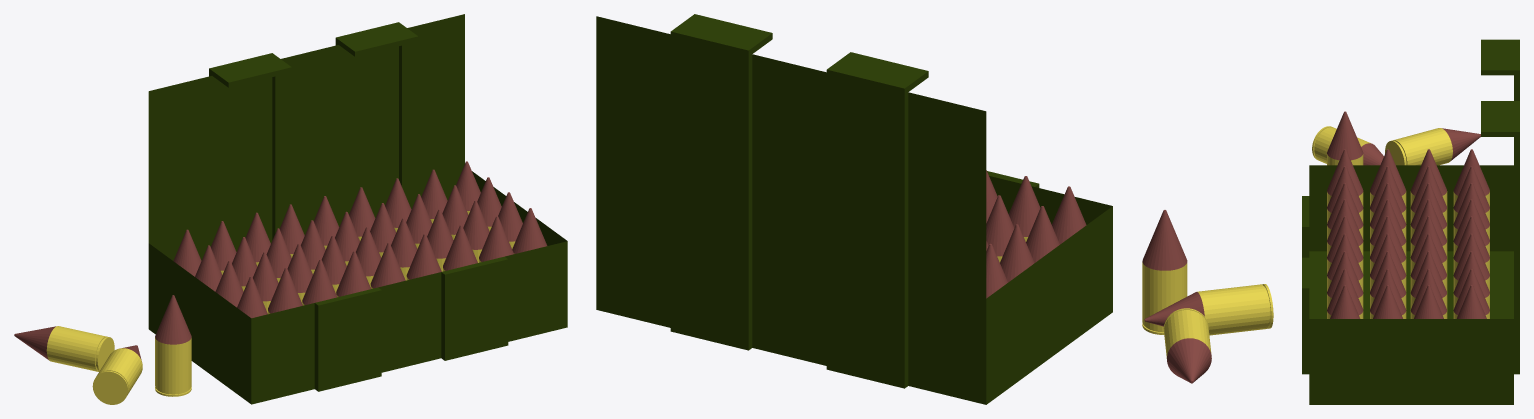
File: bala.fbx
3 renders of one model, left to right at view 1: azimuth 30°, elevation 25°; view 2: azimuth 150°, elevation 25°; view 3: azimuth 270°, elevation 25°, orthographic. The views are drawn at different scales.
Visible parts, largest first — view 1: Cube, Cylinder.036, Cylinder.038, Cylinder.037, Cylinder.020, Cylinder.021, Cylinder.019, Cylinder.030, Cylinder.031, Cylinder.033, Cylinder.034, Cylinder.032 (+28 smaller); view 2: Cube, Cylinder.037, Cylinder.036, Cylinder.038, Cylinder.034, Cylinder.025, Cylinder.017, Cylinder.035, Cylinder.026, Cylinder.008; view 3: Cube, Cylinder.038, Cylinder.036, Cylinder.037, Cylinder.012, Cylinder.013, Cylinder.011, Cylinder.002, Cylinder.003, Cylinder.021, Cylinder.020, Cylinder.022 (+28 smaller).
Boxes of the visible parts, x1,y1,x2,y2 form: Cube: (148, 14, 567, 404); Cylinder.036: (155, 295, 191, 396); Cylinder.038: (14, 326, 114, 371); Cylinder.037: (92, 345, 142, 404); Cylinder.020: (427, 209, 453, 271); Cylinder.021: (391, 218, 417, 280); Cylinder.019: (463, 200, 489, 262); Cylinder.030: (406, 233, 441, 280); Cylinder.031: (370, 242, 405, 288); Cylinder.033: (302, 259, 336, 305); Cylinder.034: (268, 267, 302, 314); Cylinder.032: (336, 251, 370, 297); Cube: (596, 14, 1112, 404); Cylinder.037: (1144, 284, 1273, 335); Cylinder.036: (1142, 210, 1187, 334); Cylinder.038: (1163, 308, 1211, 383); Cylinder.034: (1008, 176, 1040, 241); Cylinder.025: (986, 195, 1014, 262); Cylinder.017: (1000, 224, 1034, 282); Cylinder.035: (1052, 186, 1086, 244); Cylinder.026: (1026, 206, 1059, 262); Cylinder.008: (986, 243, 1007, 298); Cube: (1302, 39, 1519, 404); Cylinder.038: (1385, 128, 1480, 165); Cylinder.036: (1327, 111, 1363, 165); Cylinder.037: (1312, 126, 1383, 165); Cylinder.012: (1410, 233, 1447, 292); Cylinder.013: (1410, 216, 1447, 274); Cylinder.011: (1410, 251, 1447, 309); Cylinder.002: (1453, 251, 1489, 309); Cylinder.003: (1453, 233, 1489, 291); Cylinder.021: (1370, 233, 1406, 291); Cylinder.020: (1370, 251, 1406, 309); Cylinder.022: (1370, 216, 1406, 274).
Bounding box in the file's own units: 810 × 403 × 328.
